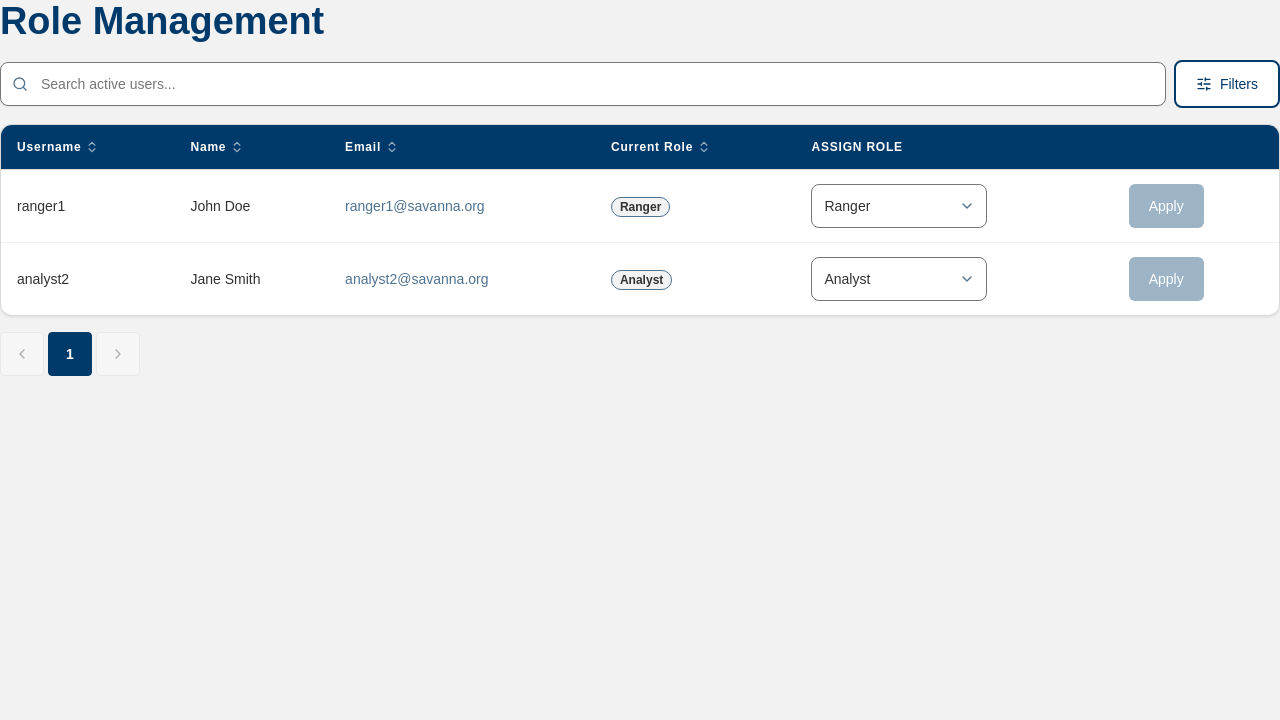
Test: RoleSwap - Role Management › clicking apply opens a confirmation dialog naming the role change
Expected: the text "ranger1" is shown, [1,169,174,242]
Select "Analyst" in the dropdown in the row of "John Doe" at (899, 206), box [811,184,987,228]
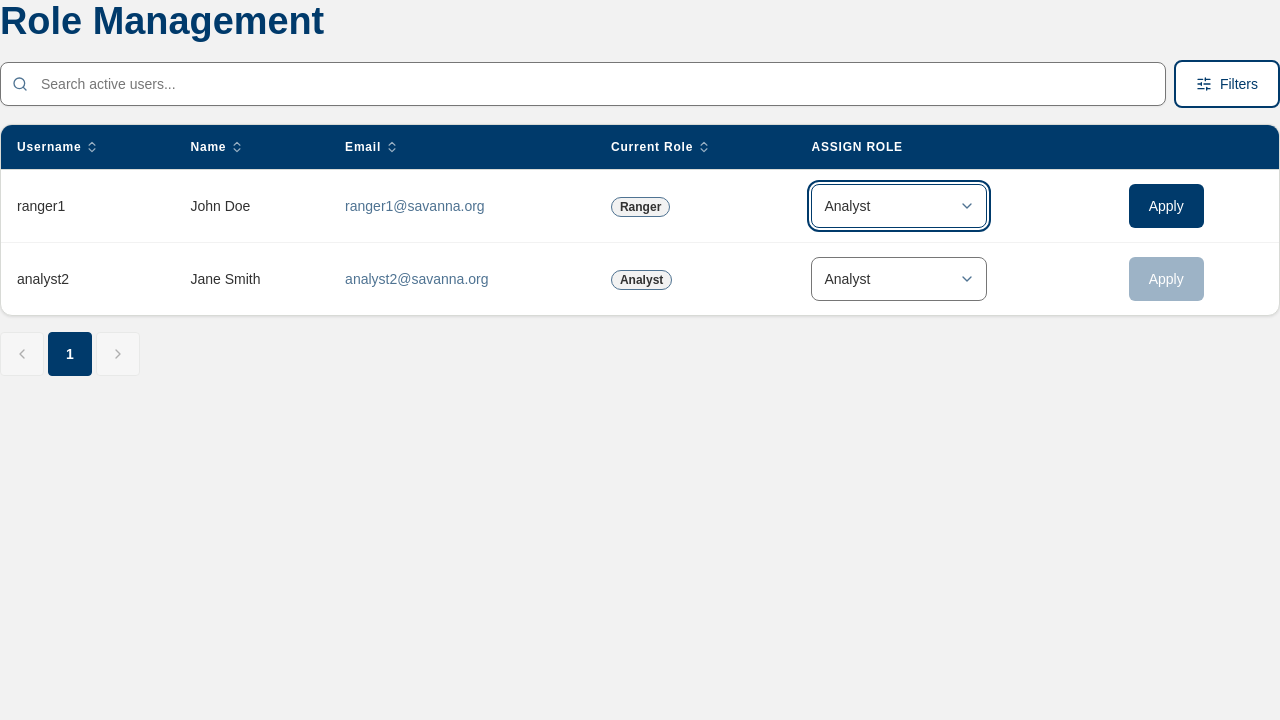
Click the button "Apply" in the row of "John Doe" at (1166, 206), box [1127,182,1206,230]
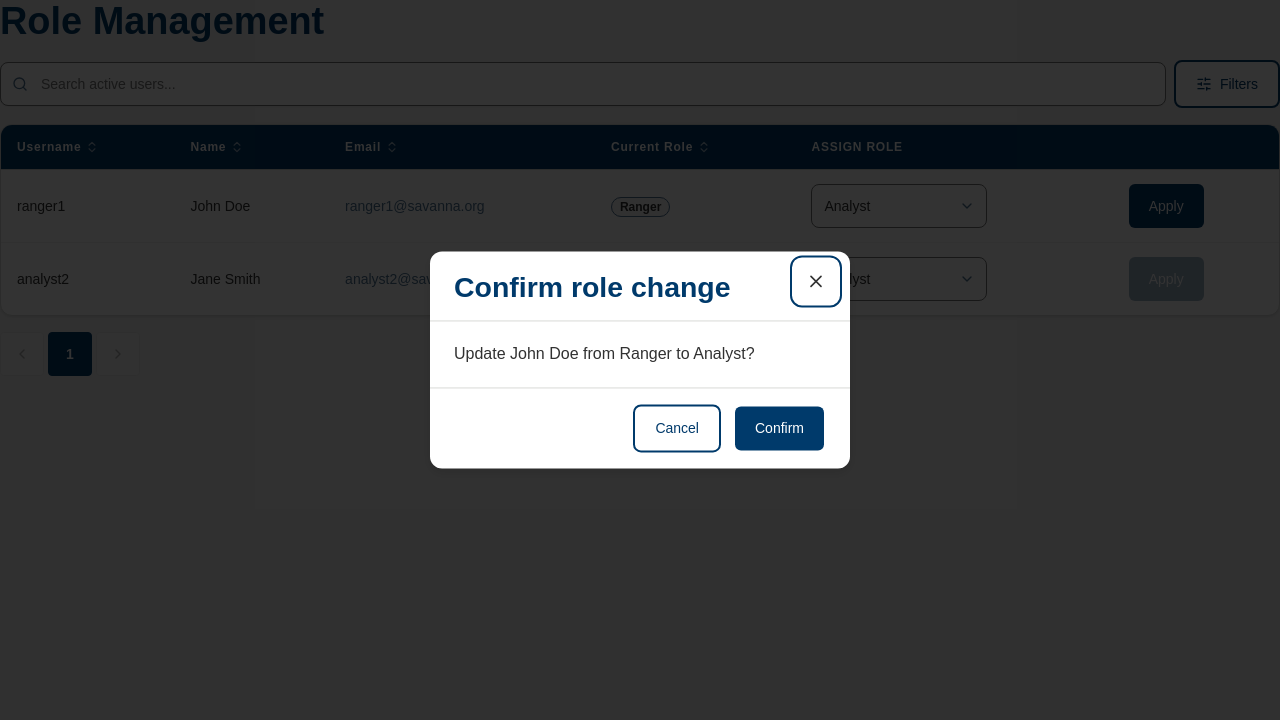
Result: the text "Update John Doe from Ranger to Analyst?" is shown at [454,345,755,362]
